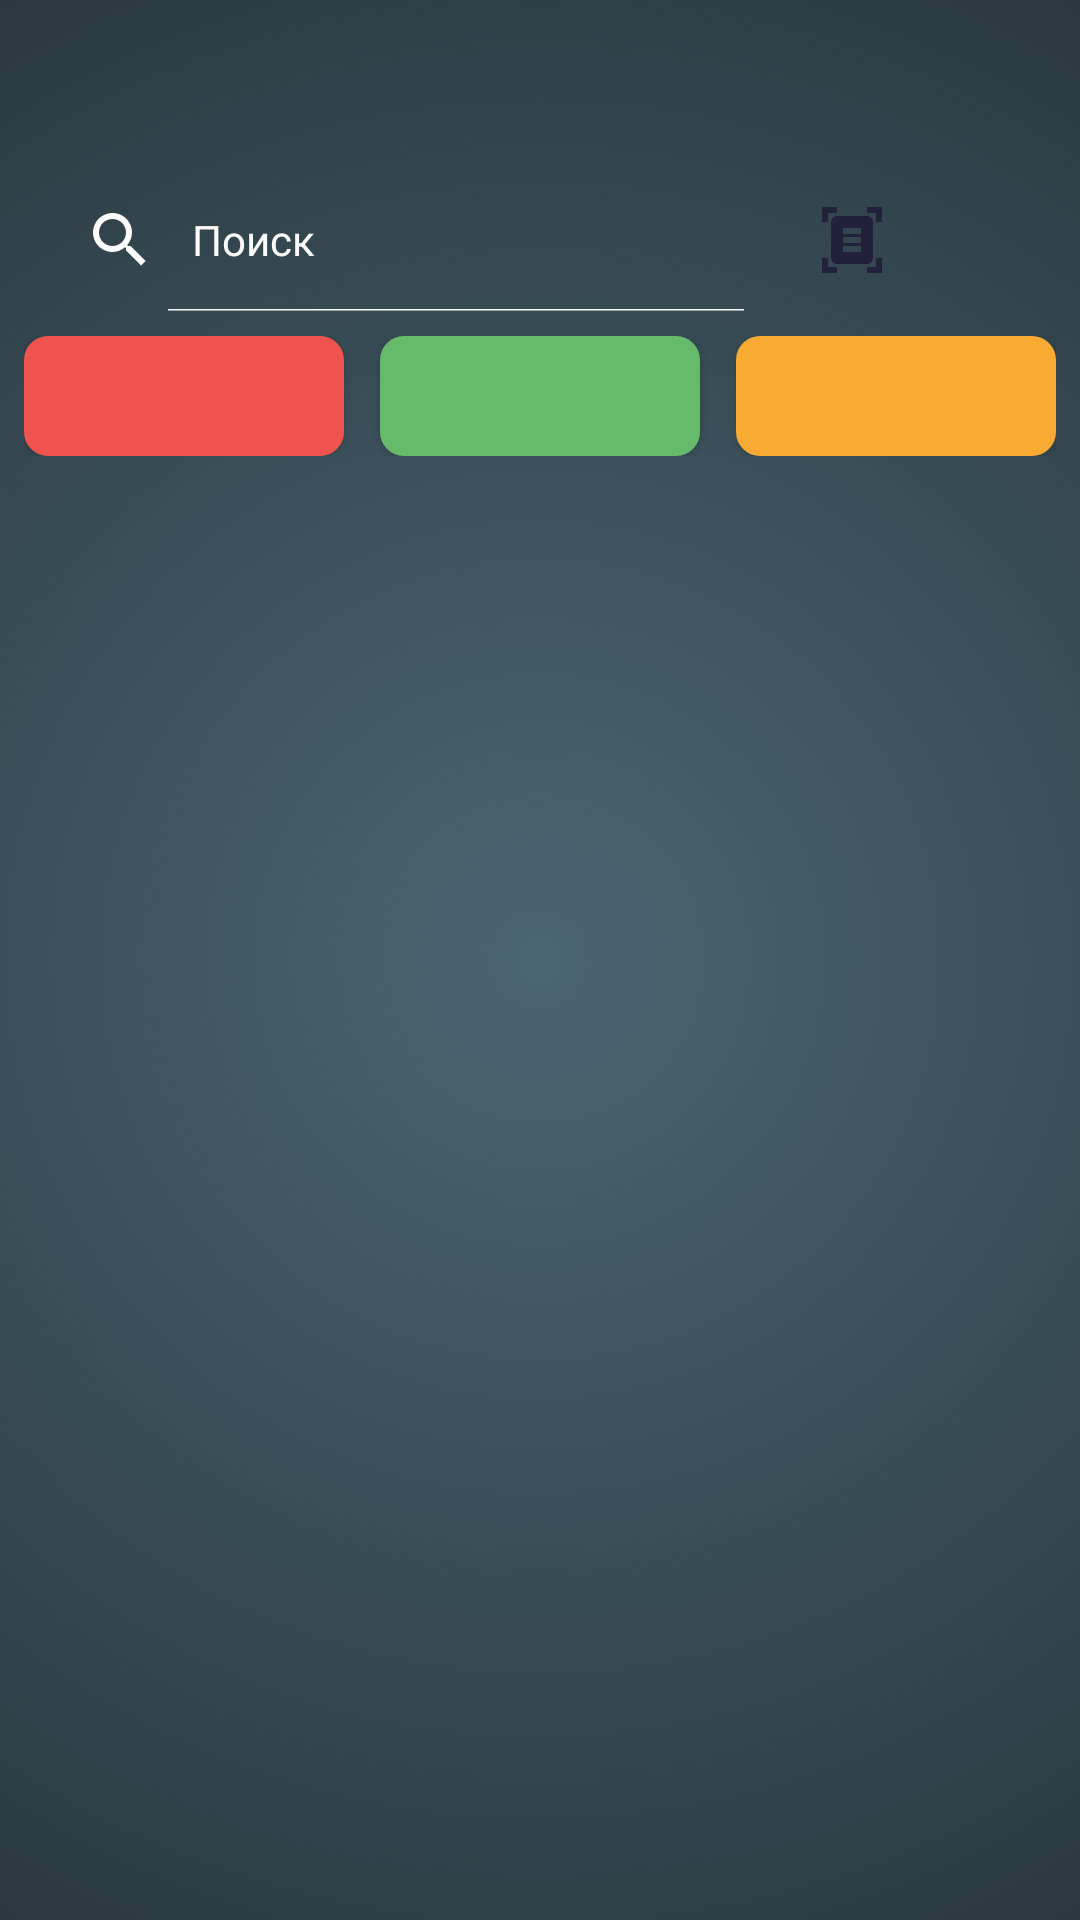

Icon bounding boxes for this 1080 × 1920 phone screenshot, format [x1,y1,x2,y2]:
2D scanner: [822,207,882,273]
